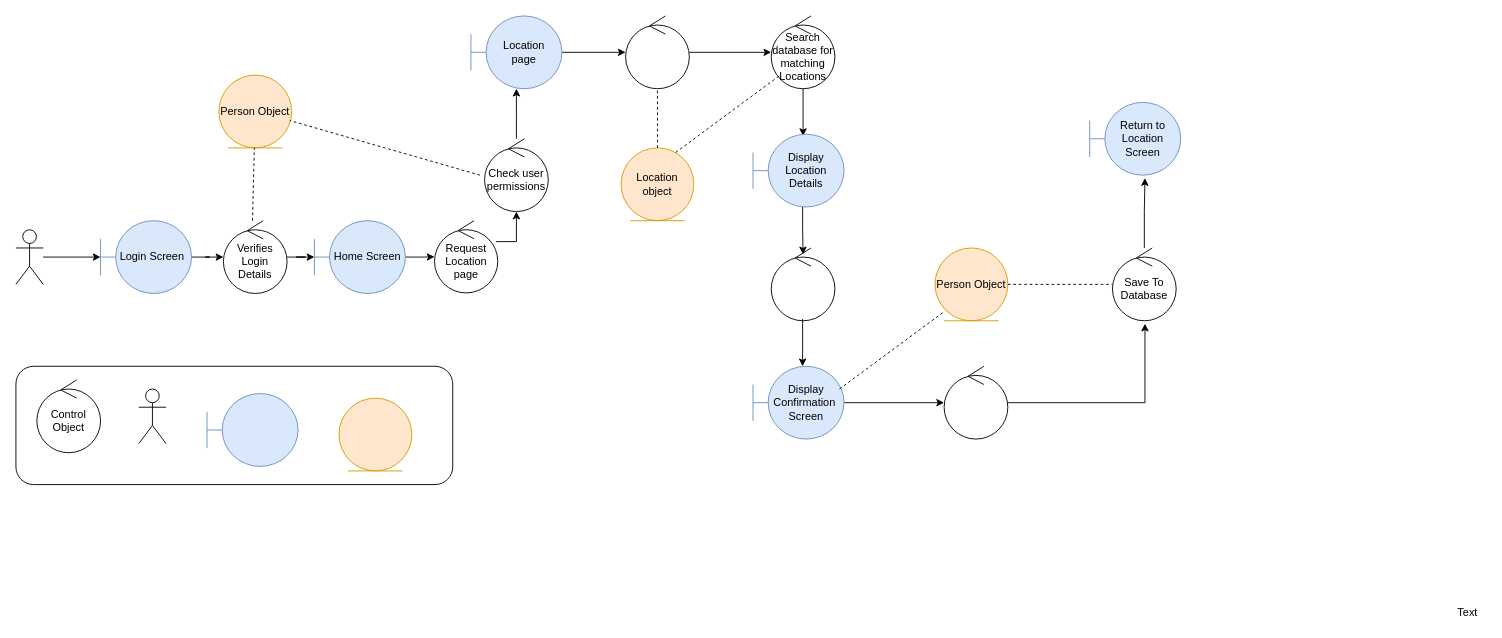
Some shapes in this 1502 by 638 pixel diagram are drawn without their labels. The shapes that lost their labels are listed below. From the top down, each one's box as (x1, y1, x2, y2) in pixels, then its label:
(625, 15, 689, 89): Validate Imput
(15, 229, 43, 284): User
(770, 247, 835, 321): Delete Location
(138, 388, 166, 444): Actor
(943, 365, 1008, 439): Save changes to Location()
(206, 393, 298, 466): Boundary Object
(338, 397, 412, 471): Entity/dto Object
